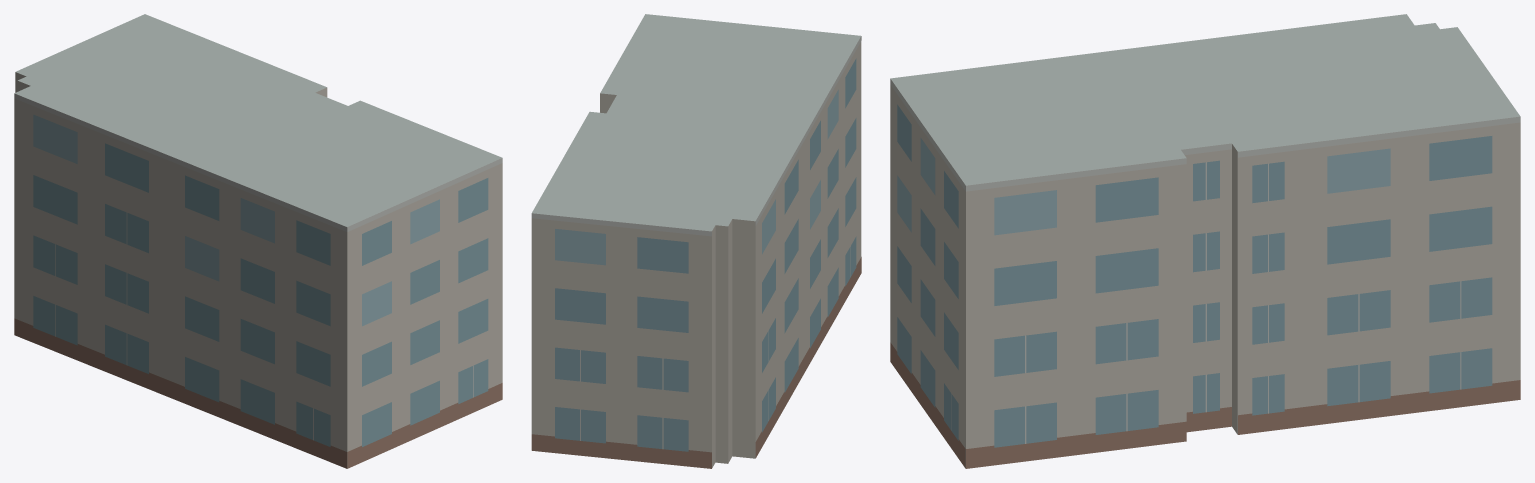
The model's file is survey-upis-32970134.glb.
3 renders of one model, left to right at view 1: azimuth 30°, elevation 25°; view 2: azimuth 150°, elevation 25°; view 3: azimuth 270°, elevation 25°, orthographic. The views are drawn at different scales.
Visible parts, largest first — view 1: survey-upis-32970134.tmp; view 2: survey-upis-32970134.tmp; view 3: survey-upis-32970134.tmp.
Boxes of the visible parts, x1,y1,x2,y2 form: survey-upis-32970134.tmp: [14, 14, 502, 468]; survey-upis-32970134.tmp: [531, 14, 861, 468]; survey-upis-32970134.tmp: [890, 14, 1520, 468].
Size of the model in its own units: 15.22 by 11.7 by 23.61.
